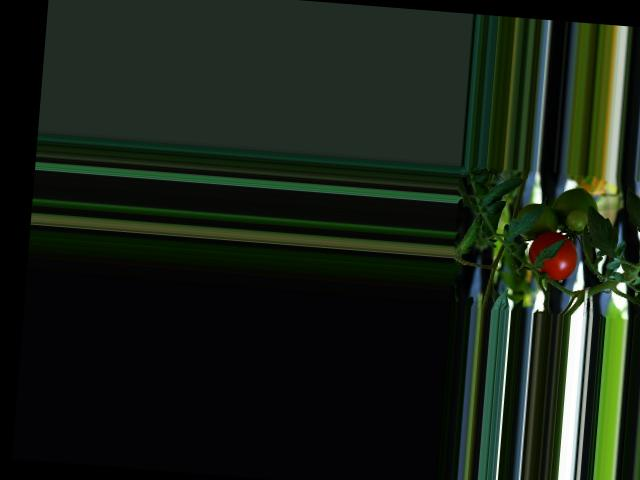tomato: (527, 230, 579, 282)
